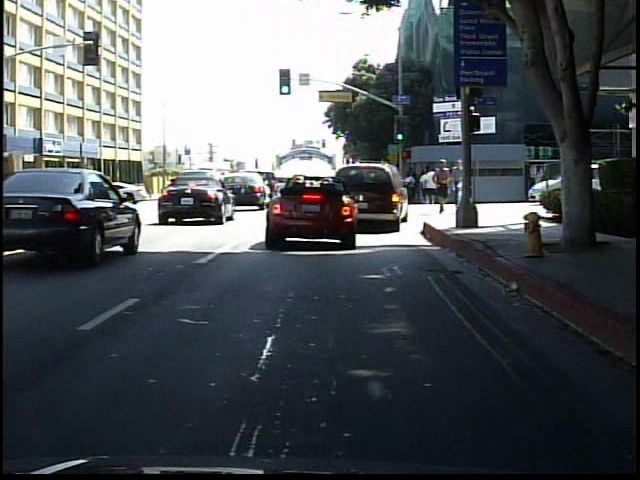person: (431, 158, 452, 217), (453, 173, 475, 211), (105, 176, 123, 204)
